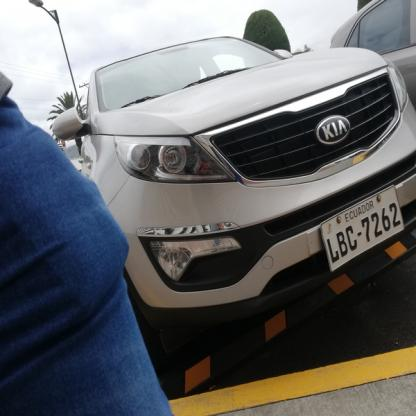Placa: (320, 184, 408, 272)
